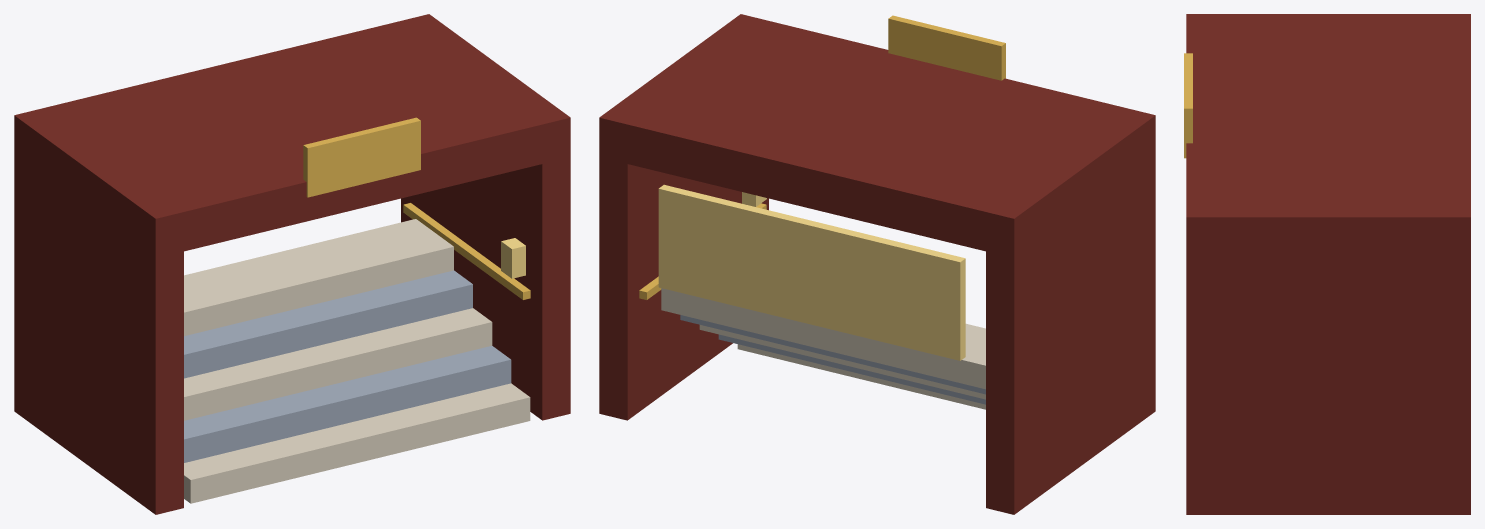
Rendered from bld_ug_stairs.glb.
3 views of the same model, side by side, from view 1: azimuth 30°, elevation 25°; view 2: azimuth 150°, elevation 25°; view 3: azimuth 270°, elevation 25° (orthographic).
Visible parts, largest first — view 1: bld_ug_stairs; view 2: bld_ug_stairs; view 3: bld_ug_stairs.
Boxes of the visible parts, left/top/right/bottom form: bld_ug_stairs: left=14, top=14, right=570, bottom=514; bld_ug_stairs: left=599, top=14, right=1155, bottom=514; bld_ug_stairs: left=1184, top=14, right=1470, bottom=514.
Size of the model in its own units: 4.4 by 3.35 by 2.62.
Materials: 1 (1 with a texture image).
